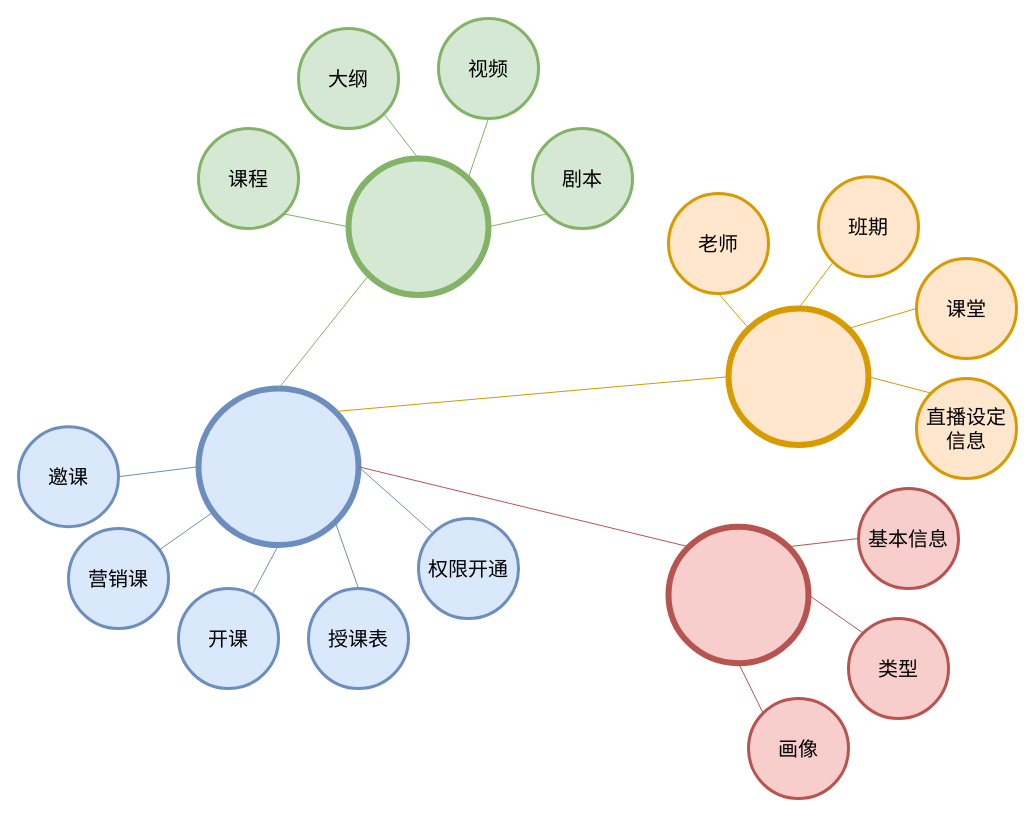
Some shapes in this 1035 by 817 pixel diagram are drawn without their labels. The centre of each missing label's shape, as x and y in pixels:
公开课: pixel 278 466
商品: pixel 418 226
用户中心: pixel 738 594
直播: pixel 798 376
